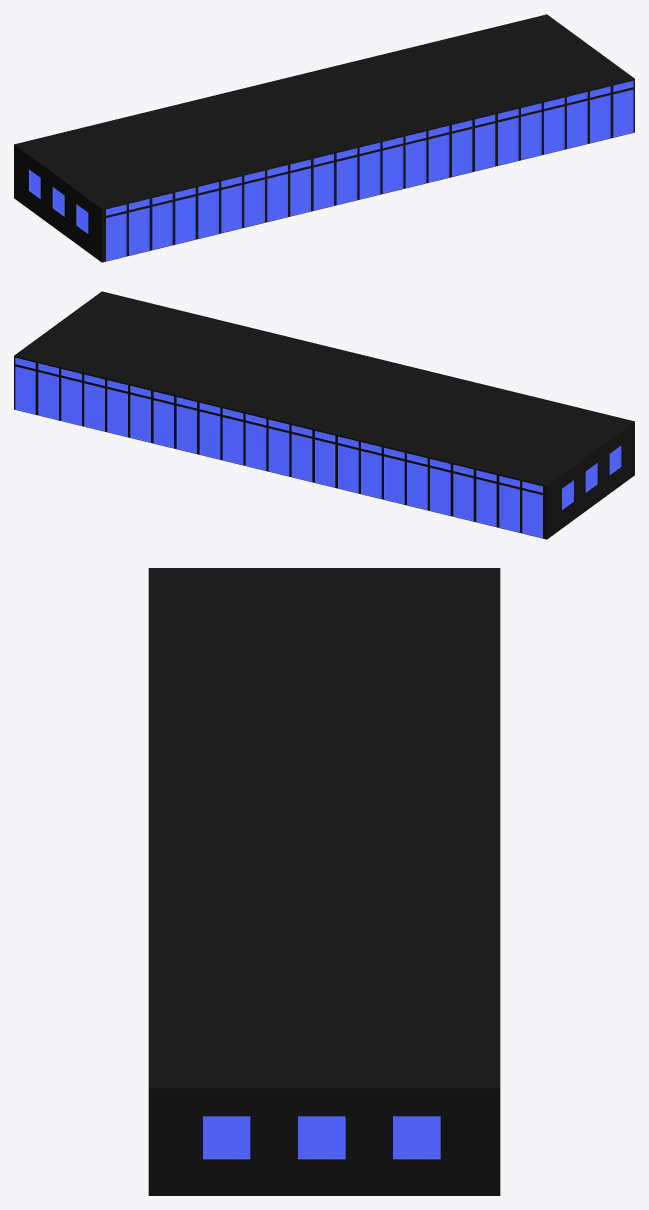
The model's file is other1.glb.
3 views of the same model, one above another, from view 1: azimuth 30°, elevation 25°; view 2: azimuth 150°, elevation 25°; view 3: azimuth 270°, elevation 25° (orthographic). The views are drawn at different scales.
Parts seen in each view (by area): view 1: 立方体; view 2: 立方体; view 3: 立方体.
Boxes of the visible parts, <box> form: 立方体: <box>14,14,634,262</box>; 立方体: <box>14,291,634,539</box>; 立方体: <box>148,568,500,1195</box>.
Size of the model in its own units: 51.8 by 5 by 14.8.
